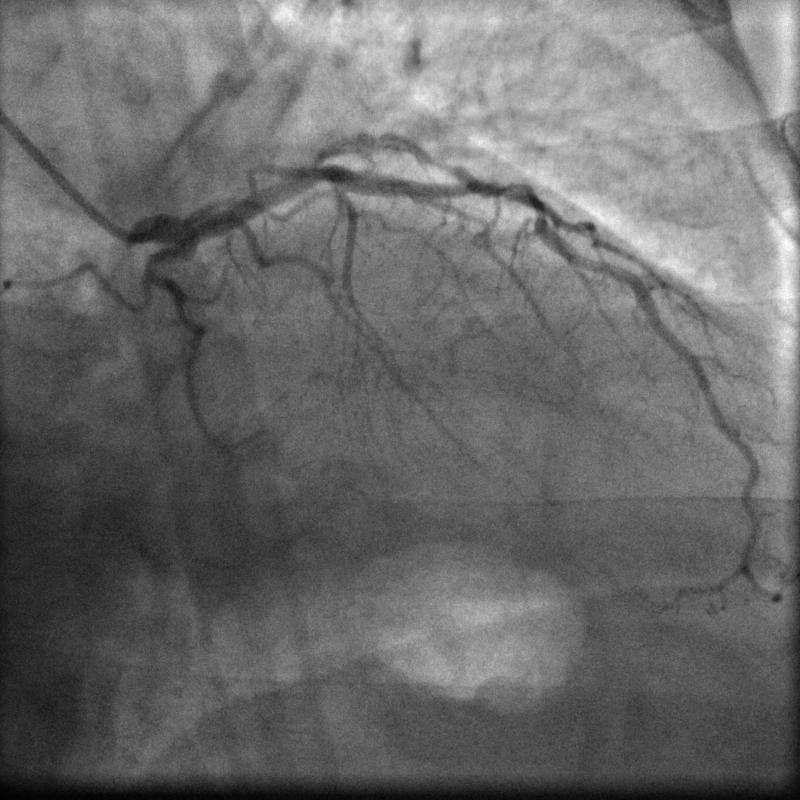Stenosis: (465, 174, 547, 213)
